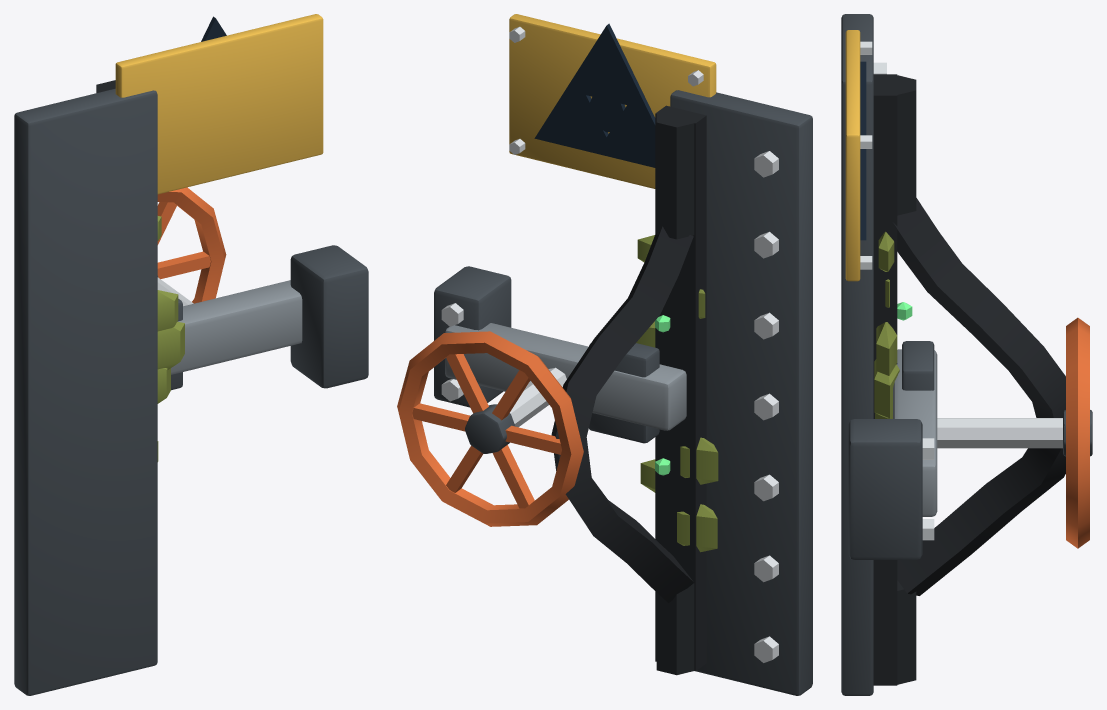
File: Kit_DoorSeal.fbx
The picture shows the model from 3 angles, left to right: view 1: azimuth 30°, elevation 25°; view 2: azimuth 150°, elevation 25°; view 3: azimuth 270°, elevation 25°; orthographic projection. The views are drawn at different scales.
Parts seen in each view (by area): view 1: Jamb; view 2: Jamb; view 3: Jamb.
Part boxes in pixels (<box>): Jamb: <box>14,14,368,695</box>; Jamb: <box>397,14,812,695</box>; Jamb: <box>841,14,1092,695</box>.
Bounding box in the file's own units: 2.9 × 5 × 1.7.
